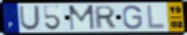5: (42, 5, 63, 32)
G: (122, 4, 144, 30)
L: (147, 4, 167, 30)
M: (67, 4, 96, 31)
R: (94, 5, 117, 30)
U: (19, 5, 41, 31)
